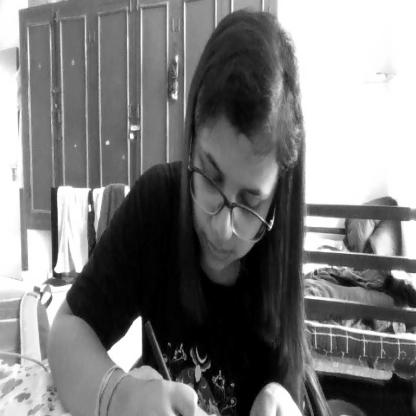Distracted: (189, 19, 303, 290)
